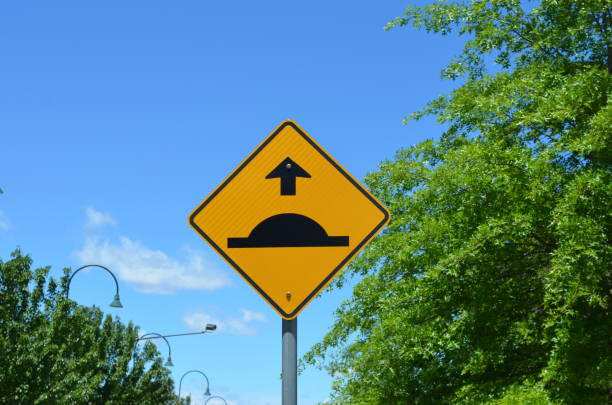speed-breaker: (188, 118, 390, 319)
